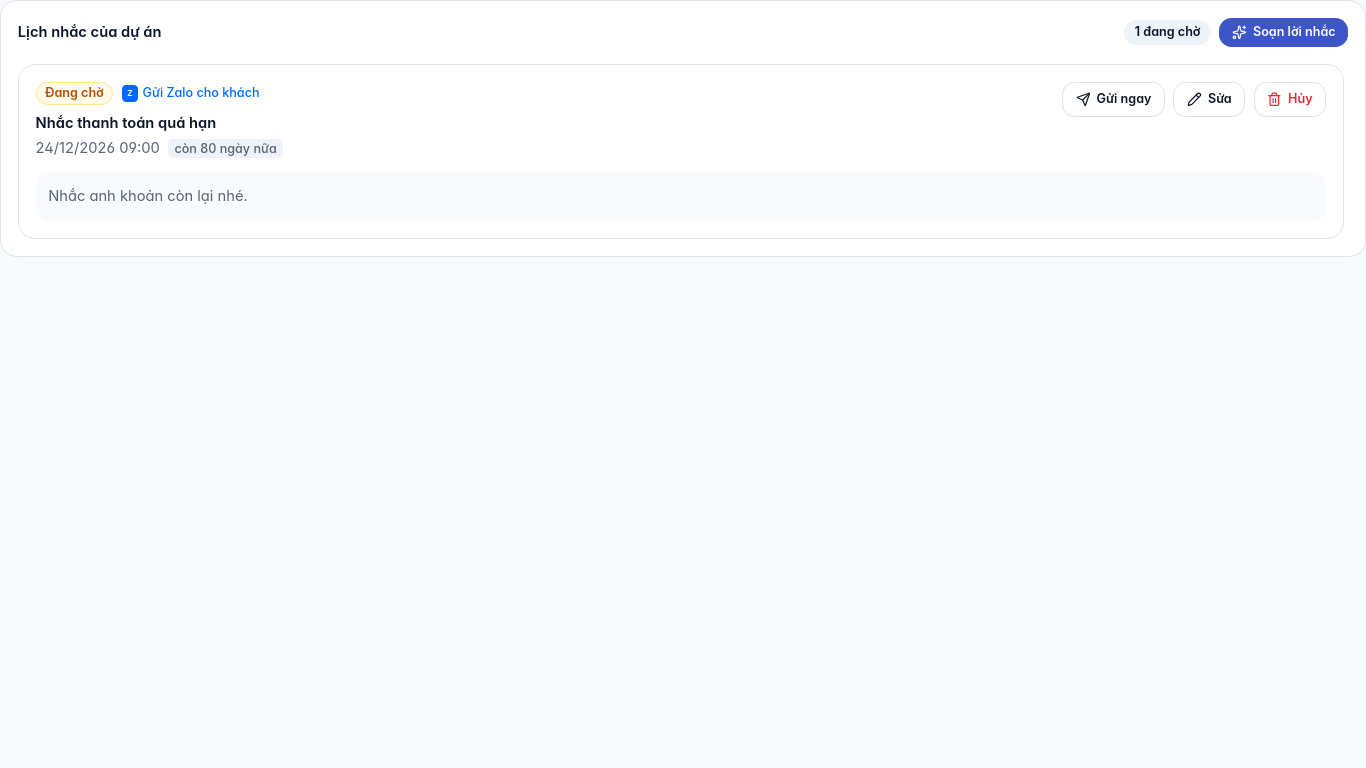
Test: <DealReminderPanel /> — gửi ngay › kênh Zalo cũng chạm tới khách nên vẫn hỏi
The width and height of the screenshot is (1366, 768).
What coordinates should you click on to do the following:
click the button "Gửi ngay"
I would click on:
 (1113, 100)
Its box is [1062, 82, 1165, 117].
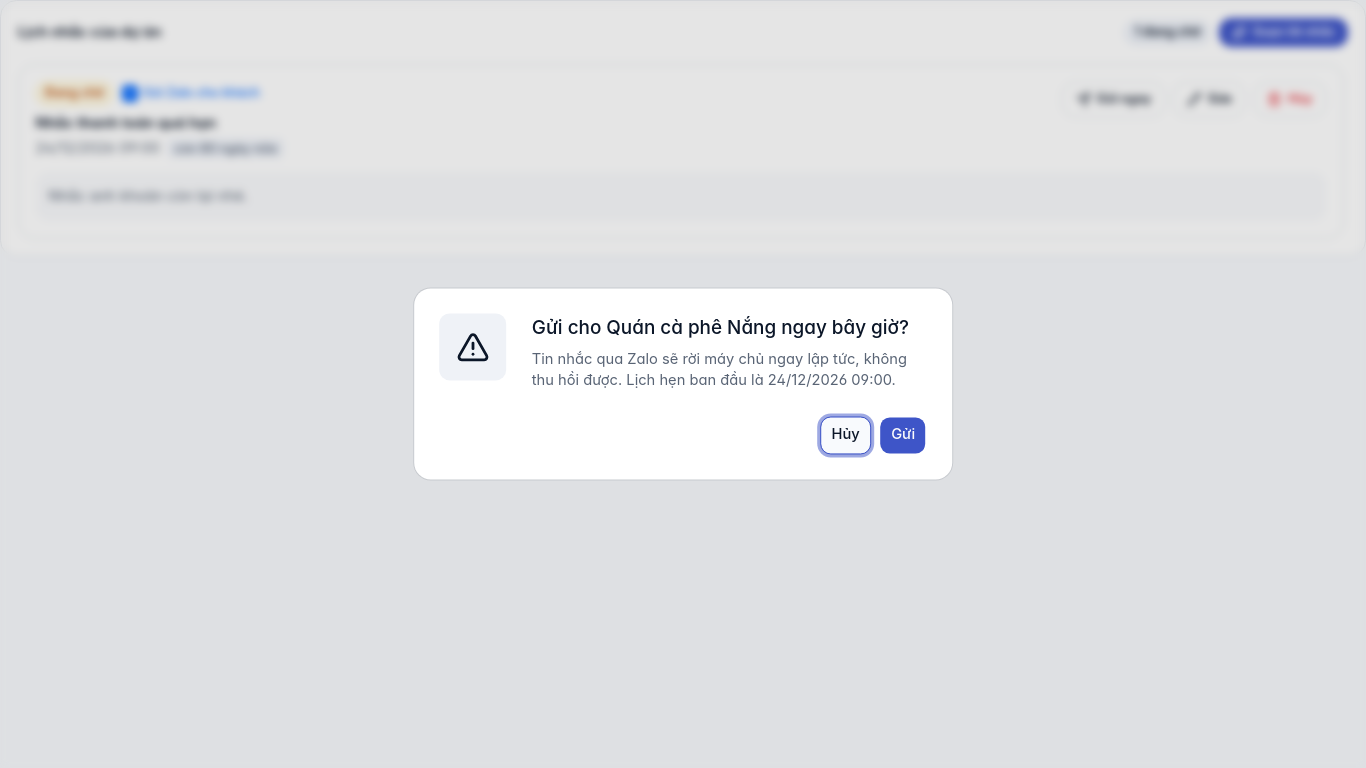
Expected: the dialog shows "Zalo", [532, 350, 907, 389]
